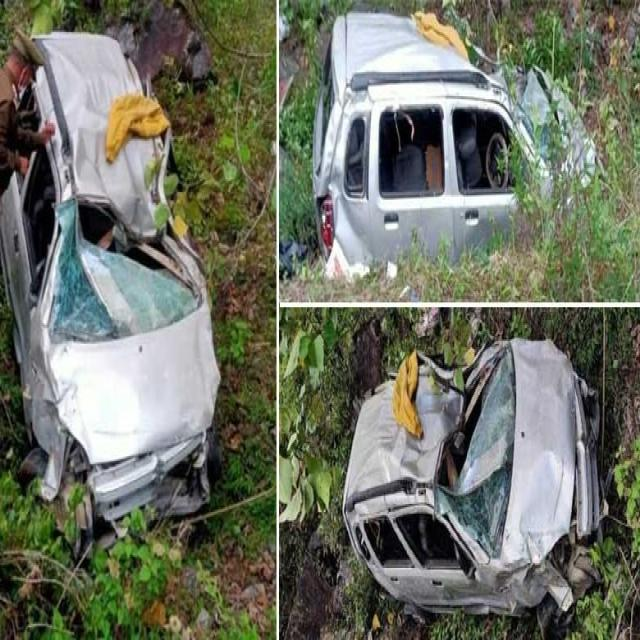accident: (0, 32, 219, 520), (279, 12, 581, 307), (344, 339, 598, 617)
